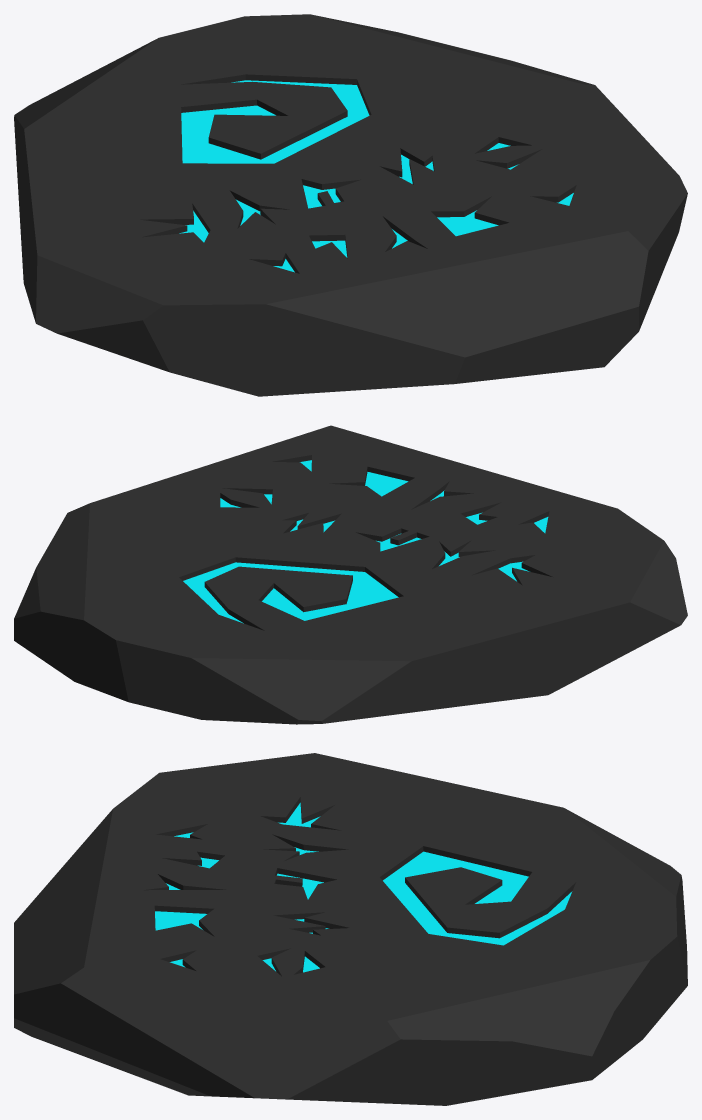
Rendered from WritenStone_01.glb.
3 views of the same model, one above another, from view 1: azimuth 30°, elevation 25°; view 2: azimuth 150°, elevation 25°; view 3: azimuth 270°, elevation 25° (orthographic). The views are drawn at different scales.
Parts seen in each view (by area): view 1: WritenStone_01; view 2: WritenStone_01; view 3: WritenStone_01.
Part boxes in pixels (x1,y1,x2,y2): WritenStone_01: (14, 14, 687, 396); WritenStone_01: (14, 425, 687, 724); WritenStone_01: (14, 753, 687, 1105).
Size of what is drawn, in the model's own units: 1.97 by 0.2882 by 1.86.
2 materials, 2 textured.
